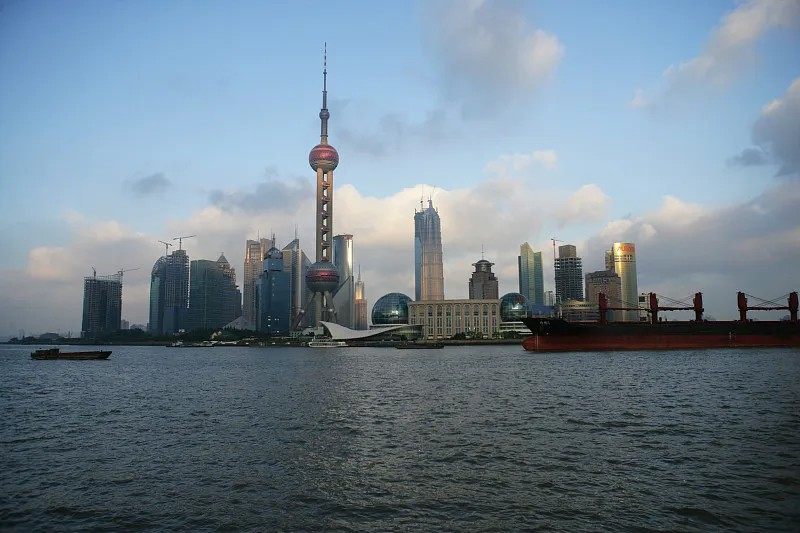Oriental: (293, 39, 341, 329)
